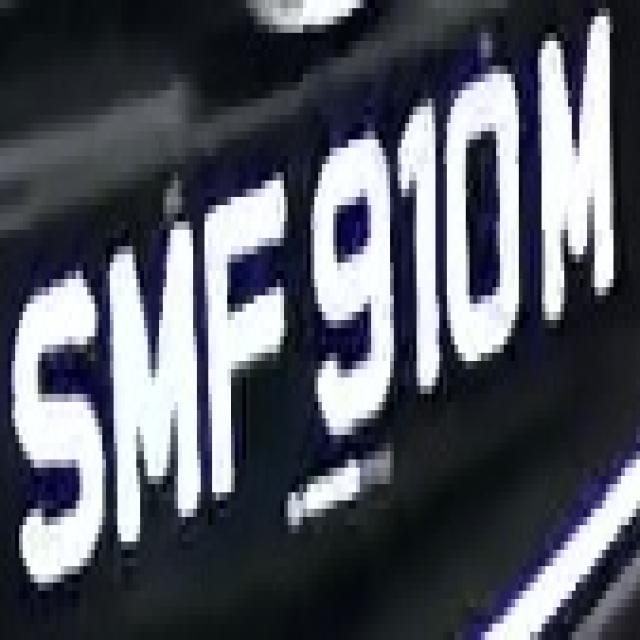0: (432, 74, 530, 369)
1: (394, 82, 443, 427)
9: (310, 99, 398, 484)
F: (197, 164, 295, 517)
M: (91, 213, 208, 574), (530, 16, 629, 336)
S: (8, 246, 106, 591)
